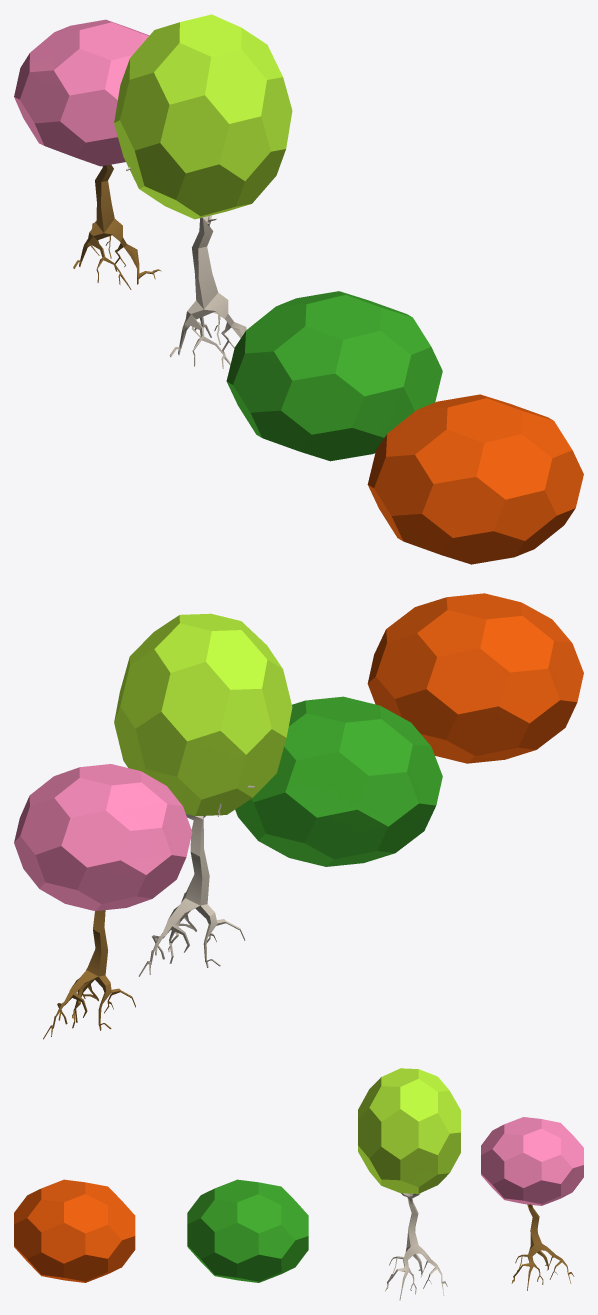
File: stromy_kere_stuff (1).fbx
3 views of the same model, one above another, from view 1: azimuth 30°, elevation 25°; view 2: azimuth 150°, elevation 25°; view 3: azimuth 270°, elevation 25° (orthographic). The views are drawn at different scales.
Visible parts, largest first — view 1: Platonic_2_3, Platonic_2, Platonic_2_2, Platonic, Cube_1_1, Cube_1; view 2: Platonic_2, Platonic_2_3, Platonic_2_2, Platonic, Cube_1_1, Cube_1; view 3: Platonic_2_3, Platonic_2_2, Platonic_2, Platonic, Cube_1_1, Cube_1.
Part boxes in pixels (bbox=[...]): Platonic_2_3: bbox=[114, 14, 292, 219]; Platonic_2: bbox=[367, 394, 583, 564]; Platonic_2_2: bbox=[226, 291, 442, 461]; Platonic: bbox=[14, 19, 149, 166]; Cube_1_1: bbox=[126, 167, 246, 368]; Cube_1: bbox=[73, 164, 161, 289]; Platonic_2: bbox=[367, 593, 583, 763]; Platonic_2_3: bbox=[114, 613, 292, 815]; Platonic_2_2: bbox=[235, 696, 442, 866]; Platonic: bbox=[14, 764, 192, 911]; Cube_1_1: bbox=[138, 785, 254, 976]; Cube_1: bbox=[43, 910, 135, 1039]; Platonic_2_3: bbox=[358, 1068, 460, 1193]; Platonic_2_2: bbox=[187, 1179, 308, 1282]; Platonic_2: bbox=[14, 1179, 135, 1282]; Platonic: bbox=[481, 1117, 583, 1205]; Cube_1_1: bbox=[385, 1193, 447, 1300]; Cube_1: bbox=[511, 1204, 574, 1290].
Size of the model in its own units: 236 by 425 by 1021.
